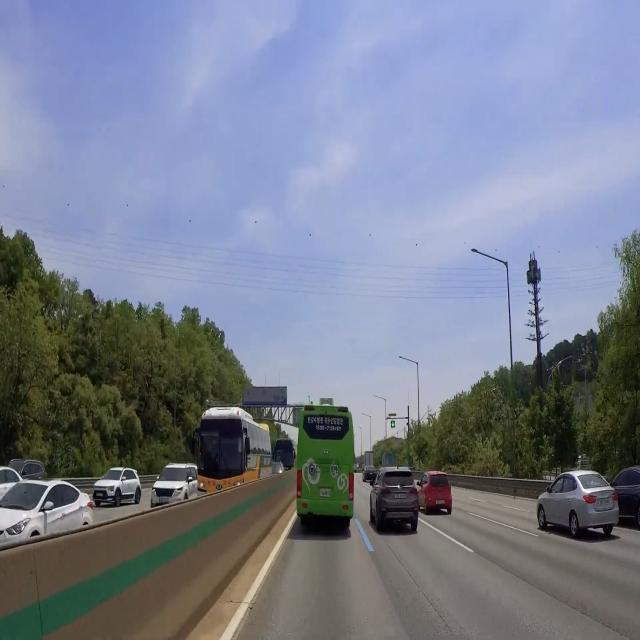car: (318, 484, 334, 501), (598, 496, 612, 513), (393, 492, 410, 502), (436, 500, 447, 507)
